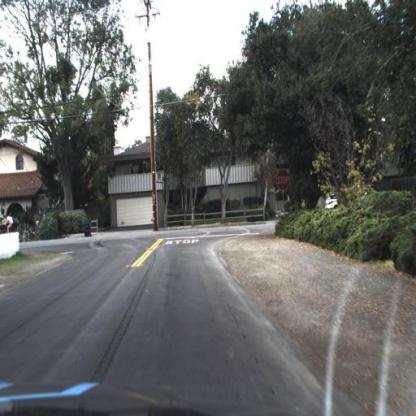biker: (1, 213, 30, 245)
car: (326, 191, 343, 211)
